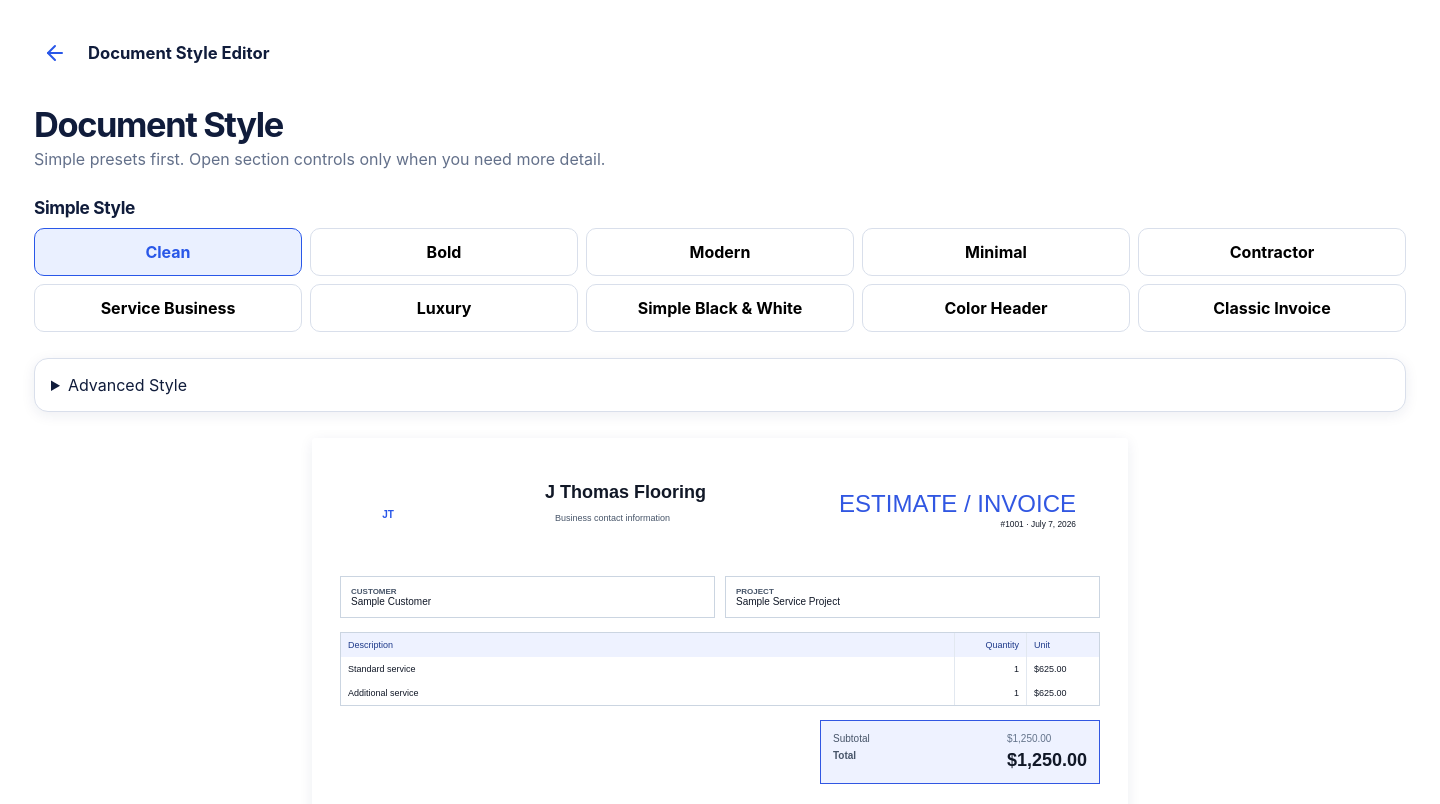
Document Style Editor › starts simple and exposes all requested advanced style sections
Expected: the button "Clean" is shown, [34,228,302,276]
Expected: the button "Bold" is shown, [310,228,578,276]
Click the heading "Advanced Style".
click(127, 385)  # box [68,375,187,395]
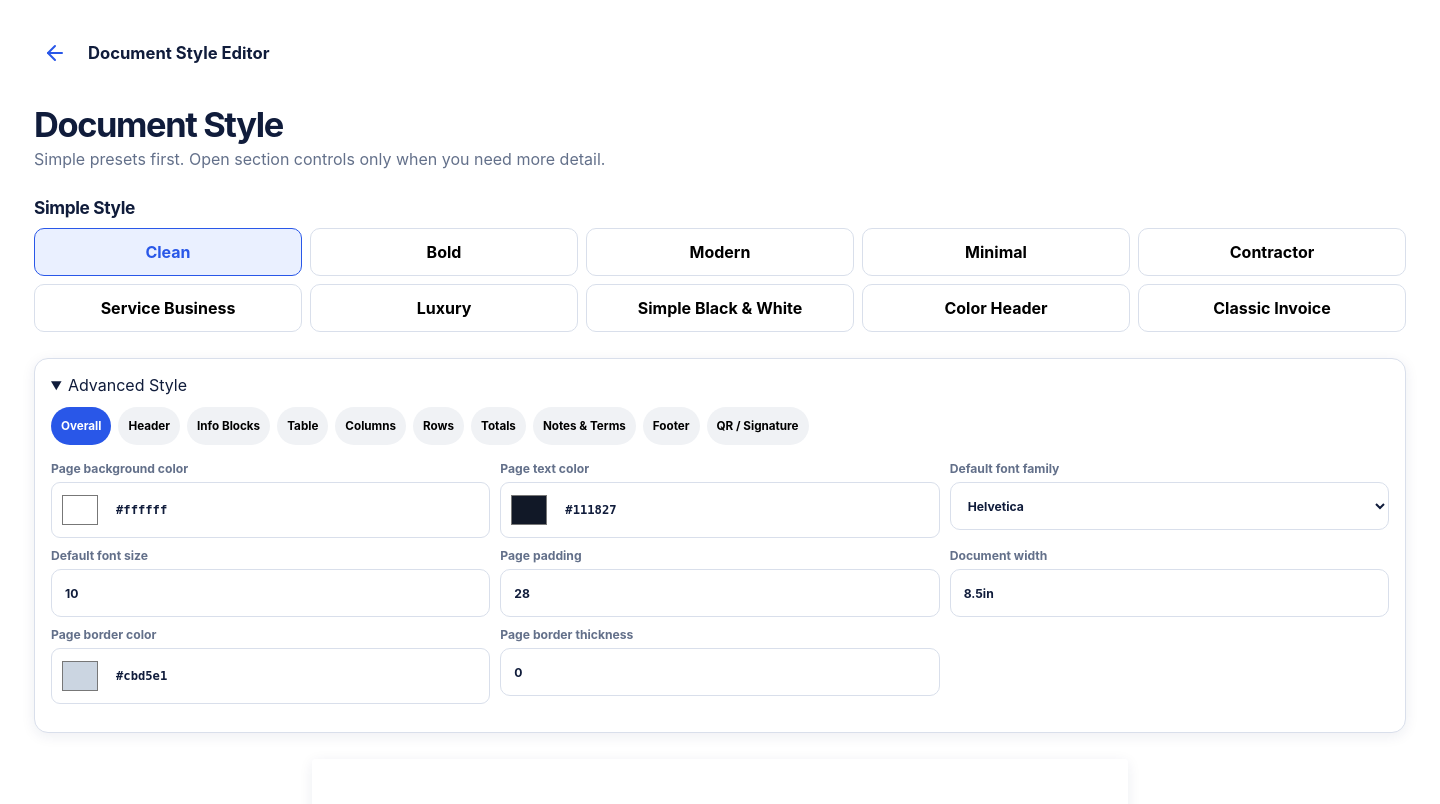
Result: the button "Overall" is shown at [51,407,111,445]
Result: the button "Header" is shown at [118,407,180,445]
Result: the button "Info Blocks" is shown at [187,407,270,445]
